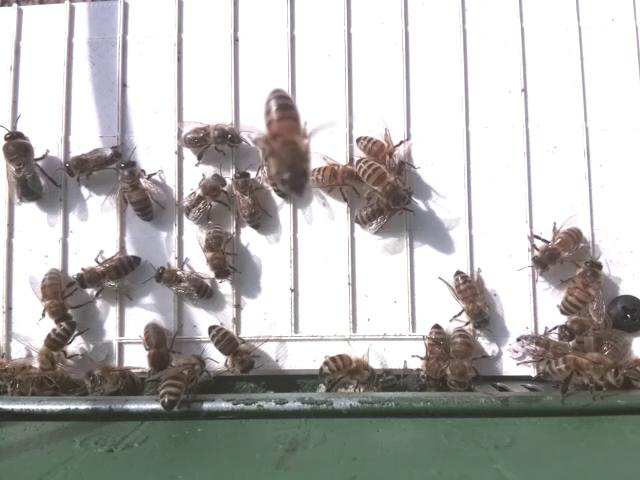Drone: (2, 127, 49, 207)
Worker: (265, 86, 308, 198), (117, 156, 159, 223), (206, 321, 257, 376), (558, 257, 603, 319), (354, 157, 409, 207), (451, 267, 492, 334), (150, 262, 214, 303), (530, 225, 584, 273), (74, 255, 142, 293), (182, 172, 229, 225), (35, 319, 79, 374), (59, 144, 126, 179), (232, 166, 266, 234), (446, 324, 476, 395), (179, 122, 244, 152), (204, 221, 235, 283), (38, 266, 72, 319), (425, 319, 451, 387)
